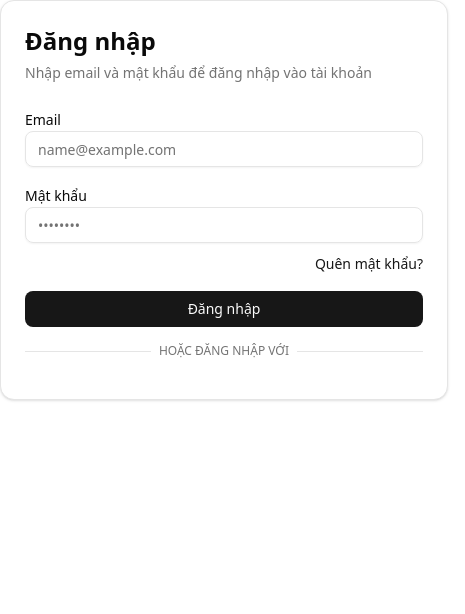
Test: LoginForm unverified-account messaging › enters the 60s cooldown after a successful resend and shows Đang gửi... while in flight
This screenshot has width=465, height=614.
Step 1. Type "user@test.com" into the field labelled "Email" → [224, 149], box [25,131,423,167]
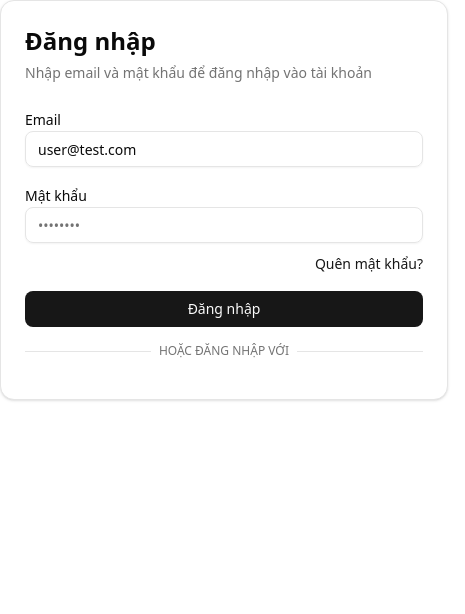
Step 2. Type "password123" into the password field labelled "Mật khẩu" → [224, 225], box [25,207,423,243]
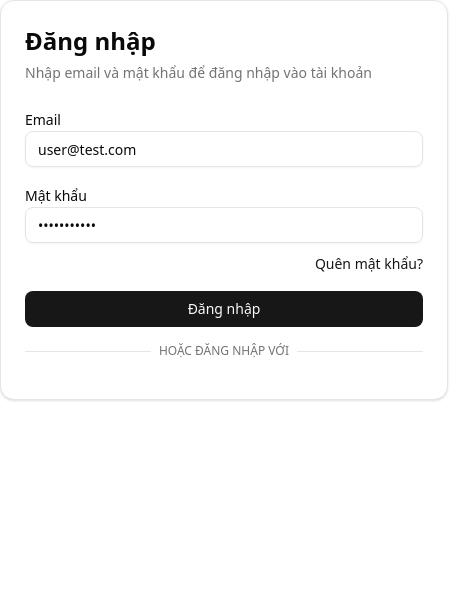
Step 3. Click the button "Đăng nhập" → [224, 309], box [25,291,423,327]
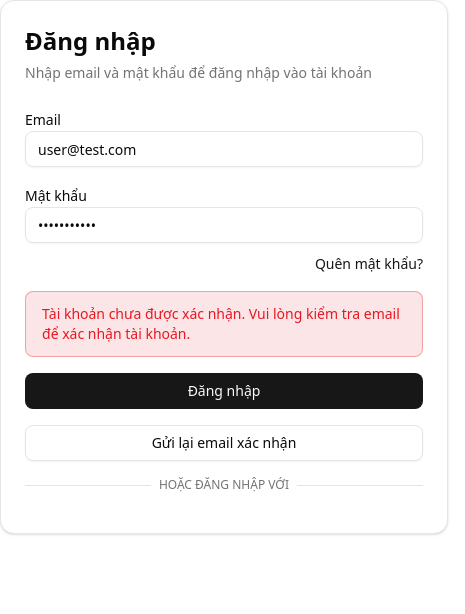
Step 4. Click the button "Gửi lại email xác nhận" → [224, 443], box [25,425,423,461]
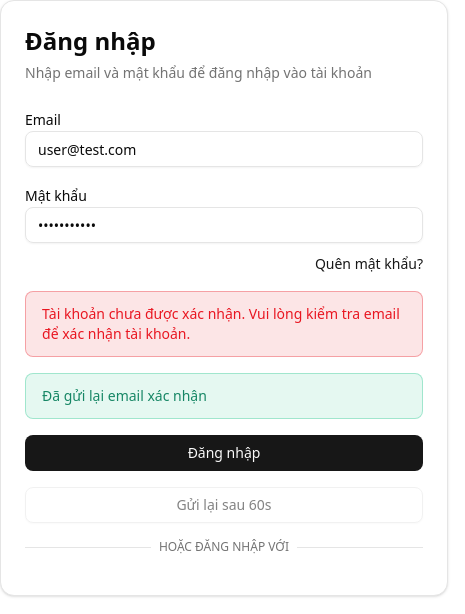
Result: the button "Gửi lại sau 60s" is disabled at [25,487,423,523]
